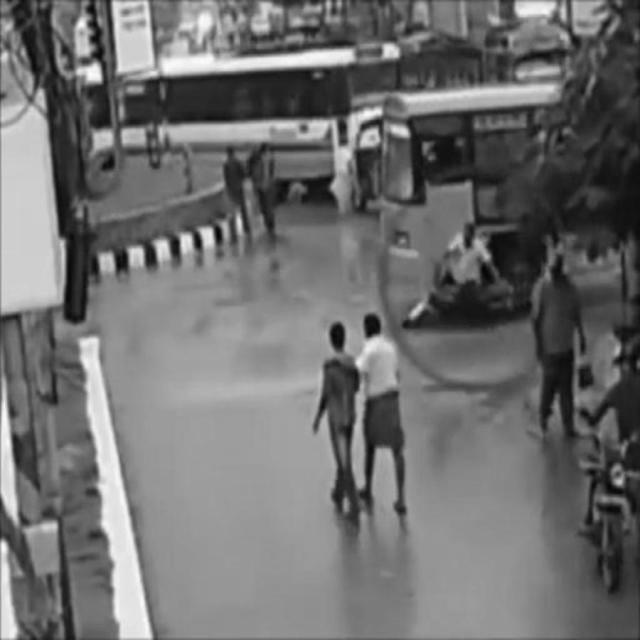accident: (367, 91, 640, 321)
person: (354, 313, 408, 518), (311, 325, 361, 525)
vehicle: (125, 59, 405, 191)
